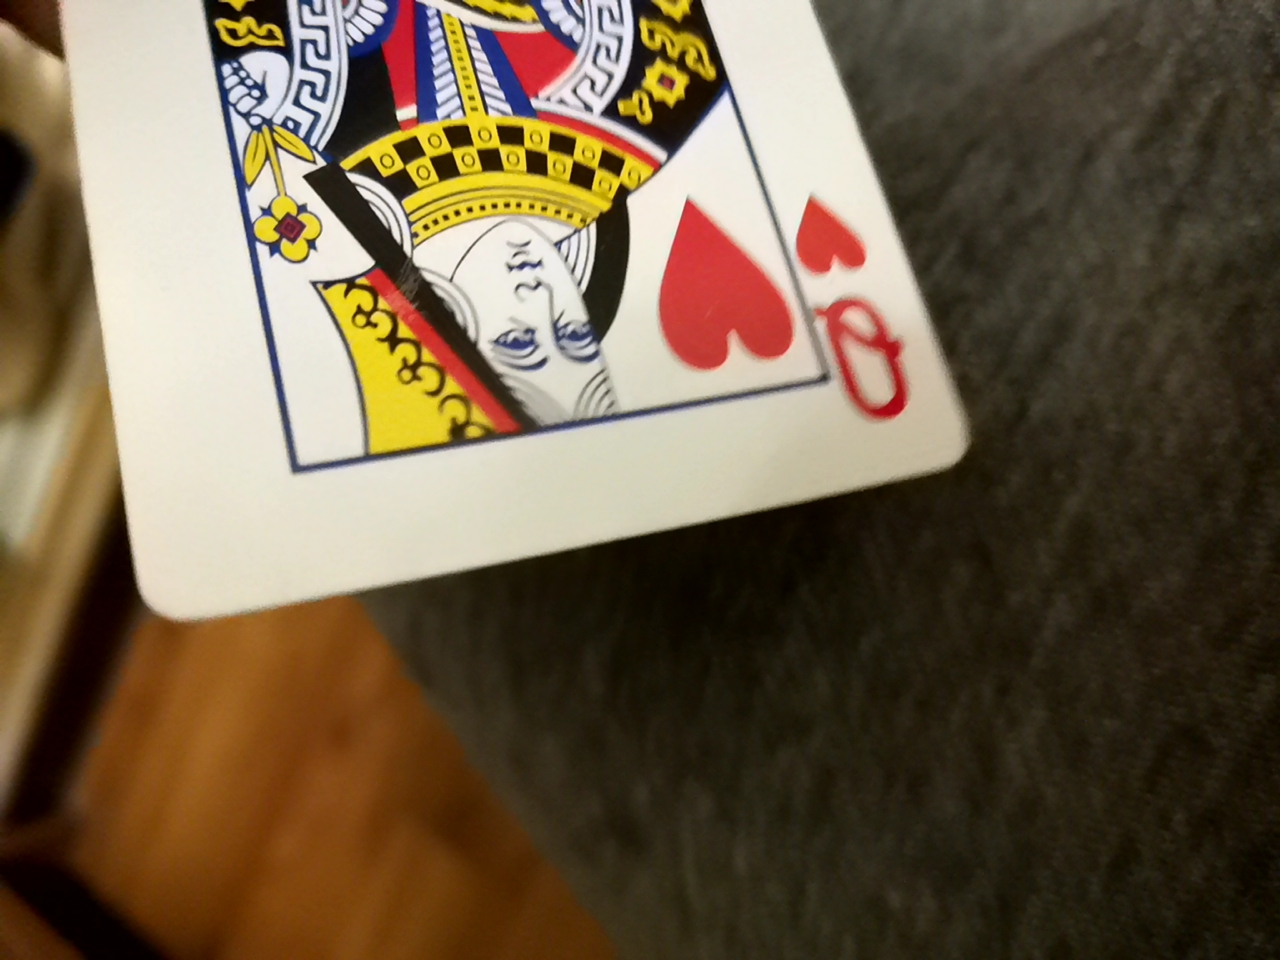hx q: (32, 0, 976, 620)
